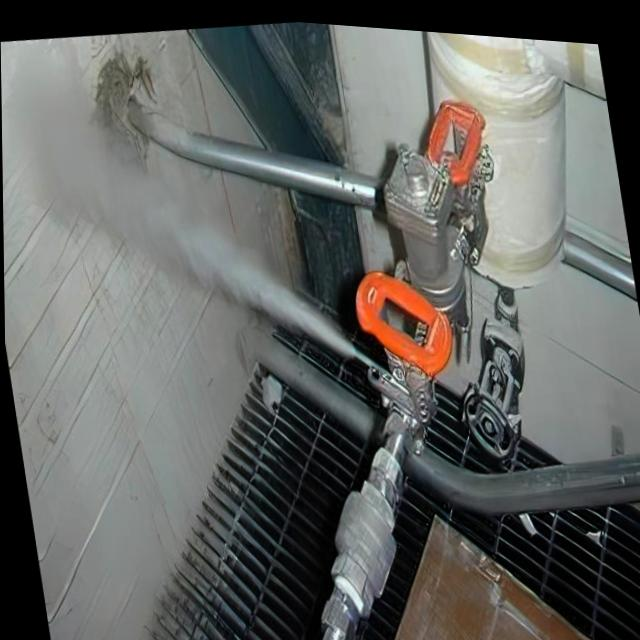leak: (16, 44, 356, 355)
